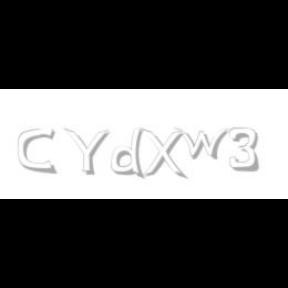3: (230, 128, 260, 172)
C: (18, 128, 55, 174)
X: (141, 128, 185, 180)
Y: (63, 128, 109, 176)
d: (112, 128, 148, 180)
w: (174, 128, 234, 160)
